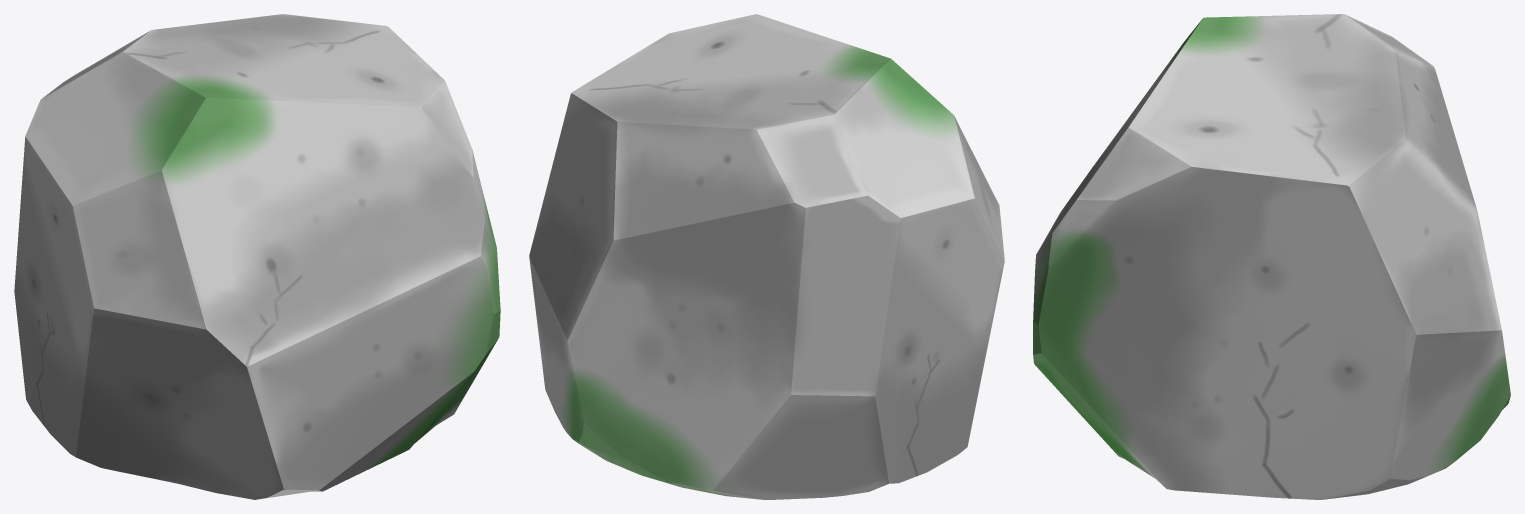
The model's file is Rocher 9.fbx.
3 renders of one model, left to right at view 1: azimuth 30°, elevation 25°; view 2: azimuth 150°, elevation 25°; view 3: azimuth 270°, elevation 25°, orthographic. The views are drawn at different scales.
Parts seen in each view (by area): view 1: Cube; view 2: Cube; view 3: Cube.
Part boxes in pixels (left/top/right/bottom): Cube: left=14, top=14, right=500, bottom=499; Cube: left=529, top=14, right=1004, bottom=499; Cube: left=1033, top=14, right=1510, bottom=499.
Size of the model in its own units: 156 by 142 by 171.
1 material, 1 textured.
